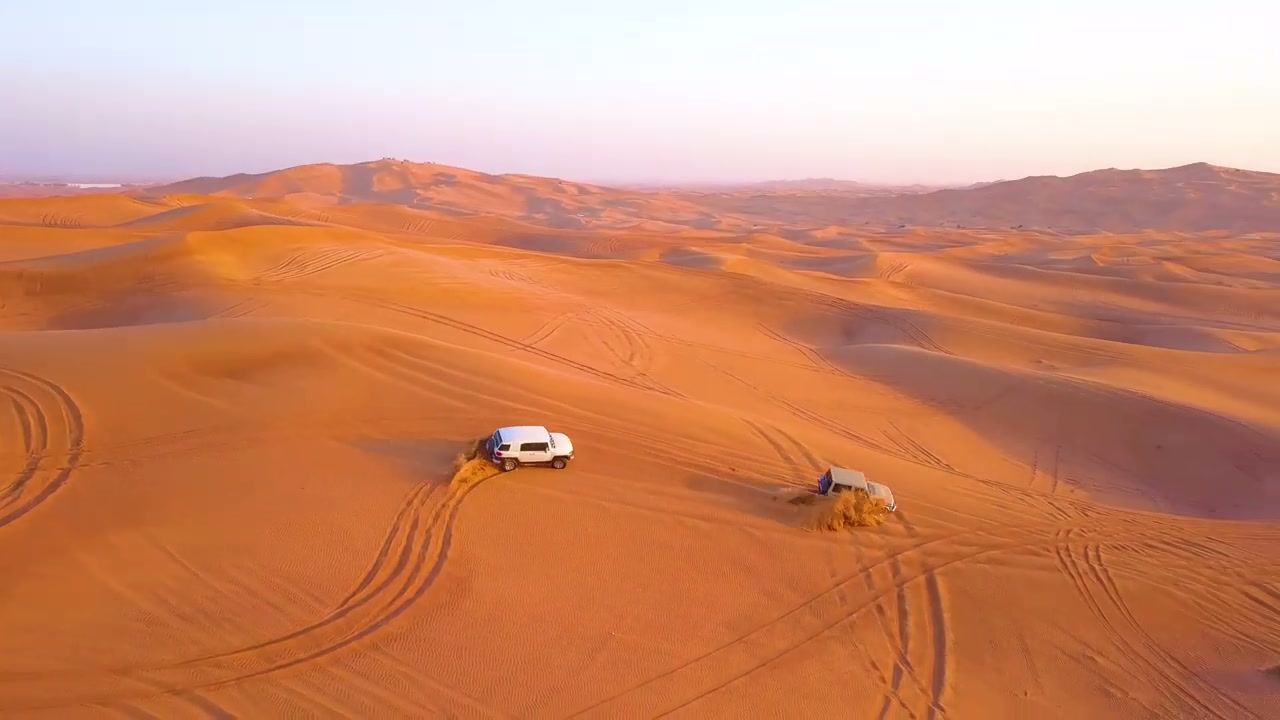vehicle_track: (59, 481, 484, 705), (569, 525, 1061, 717), (1053, 528, 1257, 719), (0, 368, 84, 527), (257, 247, 385, 281)
